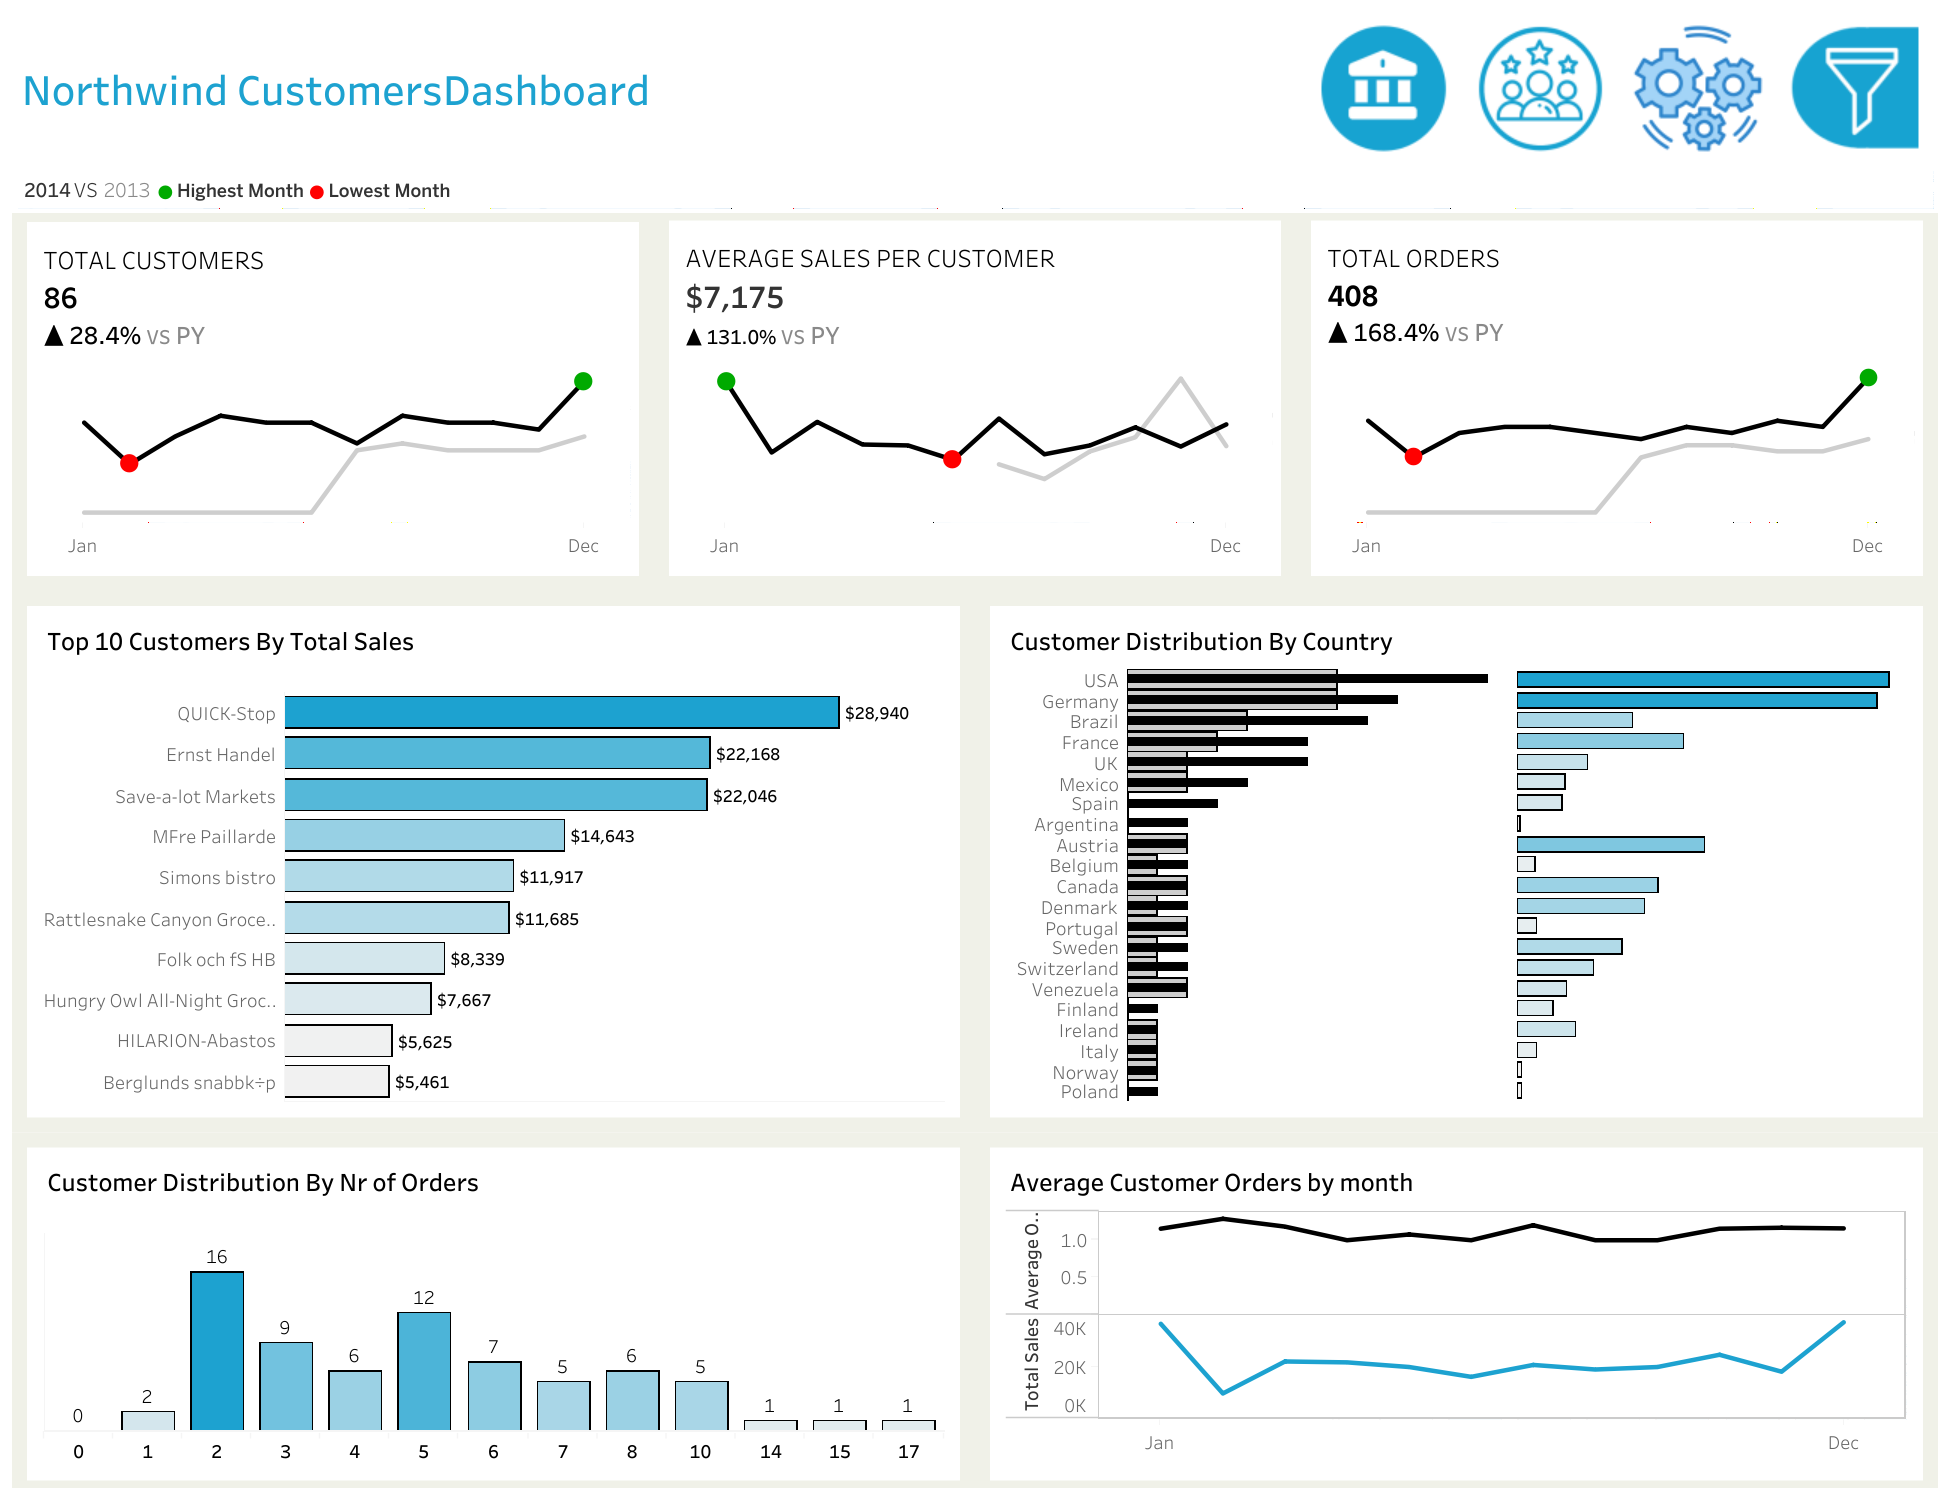

What the dashboard file says about the page in this screenshot:
{"tool":"tableau","page":{"name":"Customers Dashboard ","canvas":[1300,1000],"ordinal":0},"visuals":[{"type":"text","box":[8,8,858,102]},{"type":"dashboard-object","box":[1050,8,82,102]},{"type":"blank","box":[1132,8,160,49]},{"type":"dashboard-object","box":[870,12,105,94]},{"type":"dashboard-object","box":[975,12,105,94]},{"type":"dashboard-object","box":[1080,12,104,94]},{"type":"dashboard-object","box":[1184,12,104,94]},{"type":"text","box":[1132,57,160,41]},{"type":"blank","box":[1132,98,160,37]},{"type":"worksheet","title":"Legend KPI","mark":"Text","box":[8,110,1284,32]},{"type":"parameter","param":"[Parameters].[Parameter 1]","box":[1132,135,160,60]},{"type":"worksheet","title":"Total Customers","mark":"Line","rows":["Calculation_933089568052056074"],"cols":["OrderDate"],"box":[8,142,428,252]},{"type":"worksheet","title":"Sales per customers","mark":"Automatic","rows":["Calculation_933089568064155667"],"cols":["OrderDate"],"box":[436,142,428,252]},{"type":"worksheet","title":"Total Orders","mark":"Line","rows":["Calculation_933089568059490320"],"cols":["OrderDate"],"box":[864,142,428,252]},{"type":"blank","box":[1132,195,160,40]},{"type":"text","box":[1132,235,160,70]},{"type":"filter","title":"Total Customers","param":"[federated.0zaqgg01ssknam11a576s00i7wnt].[none:Calculation_465559629243305995:nk","box":[1132,305,160,70]},{"type":"filter","title":"Total Customers","param":"[federated.0zaqgg01ssknam11a576s00i7wnt].[none:Country:nk]","box":[1132,375,160,70]},{"type":"text","box":[25,411,608,41]},{"type":"text","box":[667,411,608,41]},{"type":"blank","box":[1132,445,160,49]},{"type":"worksheet","title":"Top 10 Customers by total sales","mark":"Bar","rows":["Calculation_933089568041574400"],"cols":["Calculation_465559629226438659"],"box":[25,452,608,286]},{"type":"worksheet","title":"customer by country","mark":"Bar","rows":["Country"],"cols":["Calculation_933089568041836545","Calculation_933089568041574400","Calculation_465559629226438659"],"box":[667,452,608,285.8]},{"type":"text","box":[1132,494,160,41]},{"type":"filter","title":"Total Customers","param":"[federated.0zaqgg01ssknam11a576s00i7wnt].[none:CategoryName:nk]","box":[1132,535,160,70]},{"type":"text","box":[25,772,608,41]},{"type":"text","box":[667,772,608,41]},{"type":"worksheet","title":"Customer distribution by nr of orders","mark":"Bar","rows":["Calculation_933089568041574400"],"cols":["Calculation_787285530256711680"],"box":[25,813,608,167]},{"type":"worksheet","title":"Average Customer Orders by month","mark":"Line","rows":["Calculation_1164180525139808256","Calculation_465559629226438659"],"cols":["OrderDate"],"box":[667,813,608,167]}]}

Visuals, with their boxes in screenshot pixels (x1, y1, x2, y2), scaled from the page's 1300x1000 canvas onto the 1949x1499 screenshot:
text: BBox(12, 12, 1298, 165)
dashboard-object: BBox(1574, 12, 1697, 165)
blank: BBox(1697, 12, 1937, 85)
dashboard-object: BBox(1304, 18, 1462, 159)
dashboard-object: BBox(1462, 18, 1619, 159)
dashboard-object: BBox(1619, 18, 1775, 159)
dashboard-object: BBox(1775, 18, 1931, 159)
text: BBox(1697, 85, 1937, 147)
blank: BBox(1697, 147, 1937, 202)
"Legend KPI" worksheet (Text marks): BBox(12, 165, 1937, 213)
parameter: BBox(1697, 202, 1937, 292)
"Total Customers" worksheet (Line marks): BBox(12, 213, 654, 591)
"Sales per customers" worksheet: BBox(654, 213, 1295, 591)
"Total Orders" worksheet (Line marks): BBox(1295, 213, 1937, 591)
blank: BBox(1697, 292, 1937, 352)
text: BBox(1697, 352, 1937, 457)
"Total Customers" filter: BBox(1697, 457, 1937, 562)
"Total Customers" filter: BBox(1697, 562, 1937, 667)
text: BBox(37, 616, 949, 678)
text: BBox(1000, 616, 1912, 678)
blank: BBox(1697, 667, 1937, 741)
"Top 10 Customers by total sales" worksheet (Bar marks): BBox(37, 678, 949, 1106)
"customer by country" worksheet (Bar marks): BBox(1000, 678, 1912, 1106)
text: BBox(1697, 741, 1937, 802)
"Total Customers" filter: BBox(1697, 802, 1937, 907)
text: BBox(37, 1157, 949, 1219)
text: BBox(1000, 1157, 1912, 1219)
"Customer distribution by nr of orders" worksheet (Bar marks): BBox(37, 1219, 949, 1469)
"Average Customer Orders by month" worksheet (Line marks): BBox(1000, 1219, 1912, 1469)
